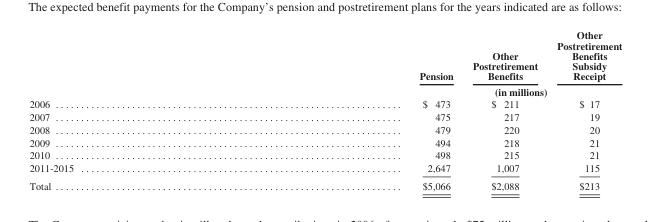table: (28, 28, 621, 191)
table column: (28, 28, 245, 191), (245, 28, 462, 191), (462, 28, 546, 191), (546, 28, 621, 191)
table column header: (28, 28, 621, 97)
table row: (28, 28, 621, 83), (28, 161, 621, 176), (28, 176, 621, 191), (28, 83, 621, 97), (28, 97, 621, 110), (28, 122, 621, 135), (28, 135, 621, 148), (28, 148, 621, 161), (28, 110, 621, 122)
table spanning cell: (245, 83, 621, 97)
